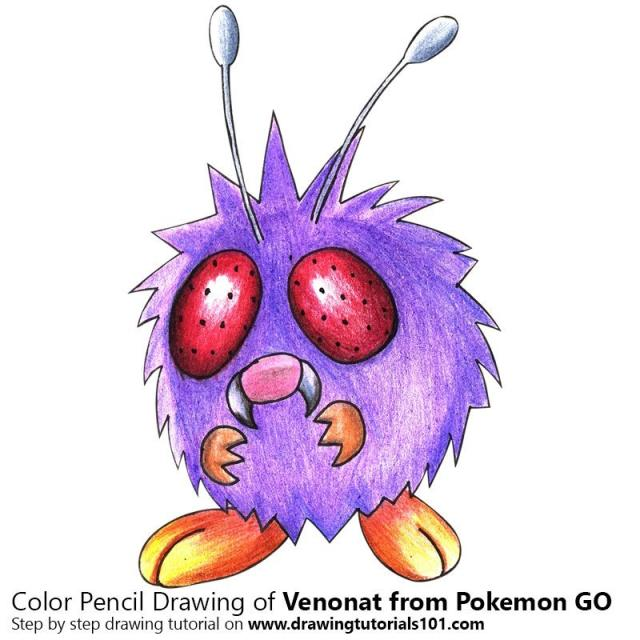Venonat: (146, 134, 548, 591)
